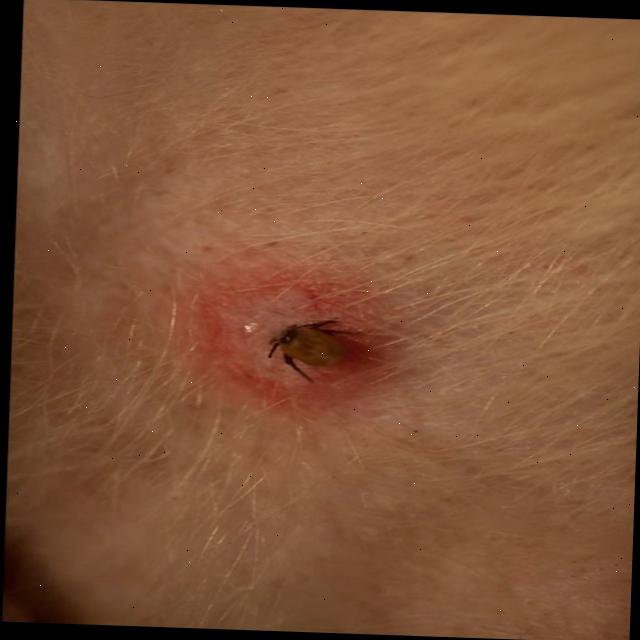kene: (159, 239, 422, 436)
